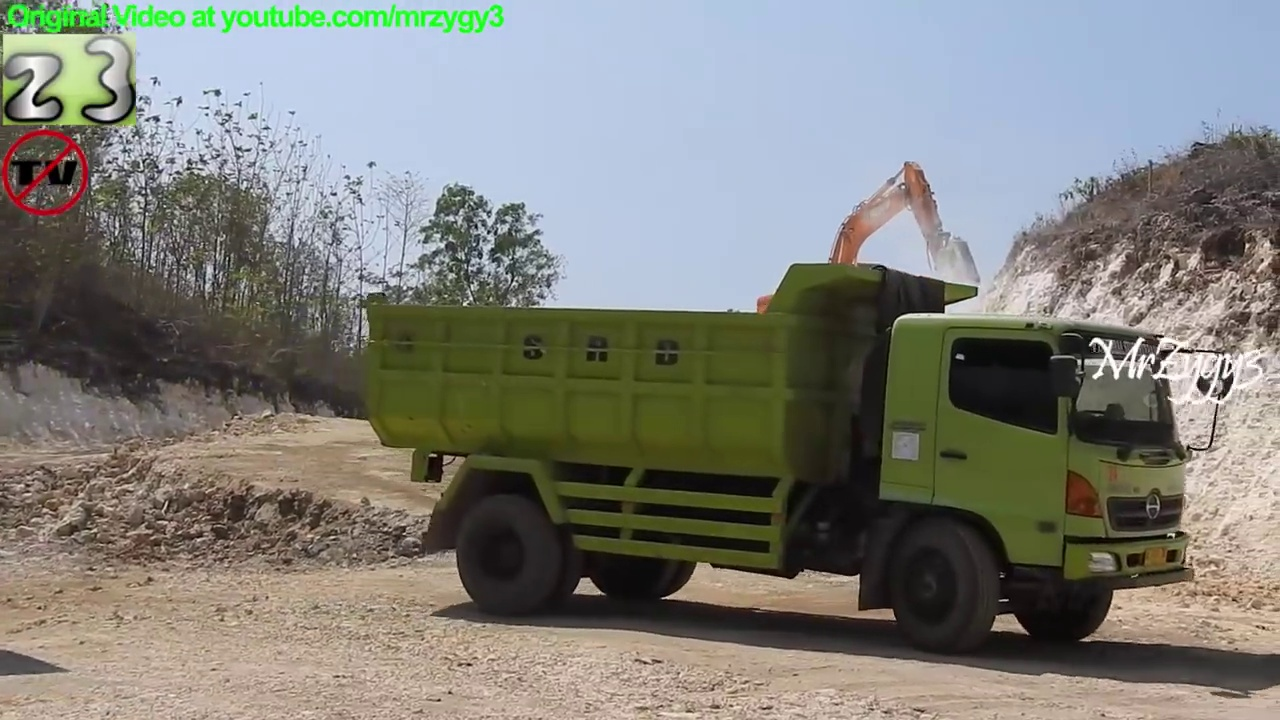excavator: (747, 152, 991, 389)
truck: (357, 255, 1243, 661)
